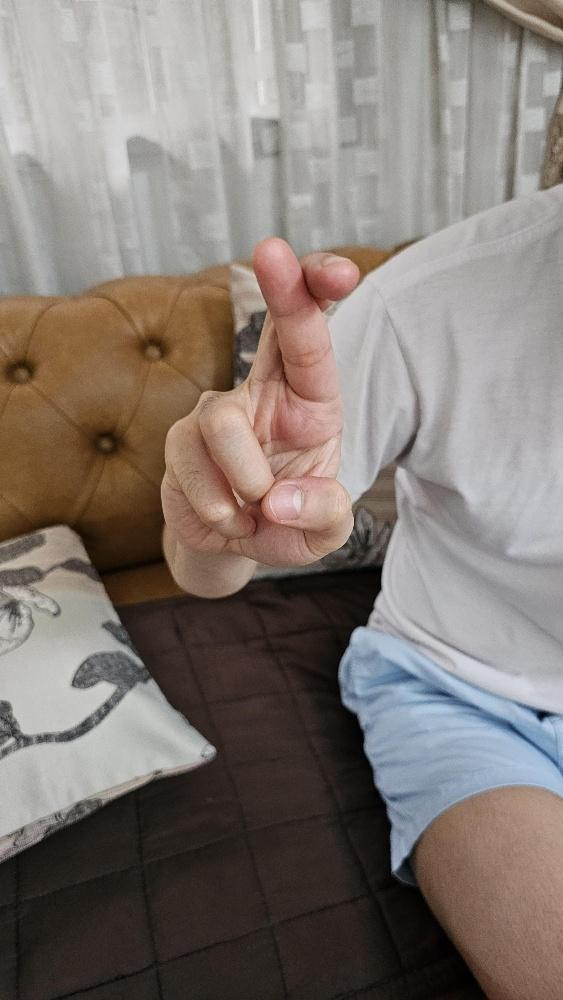r: (156, 231, 360, 569)
